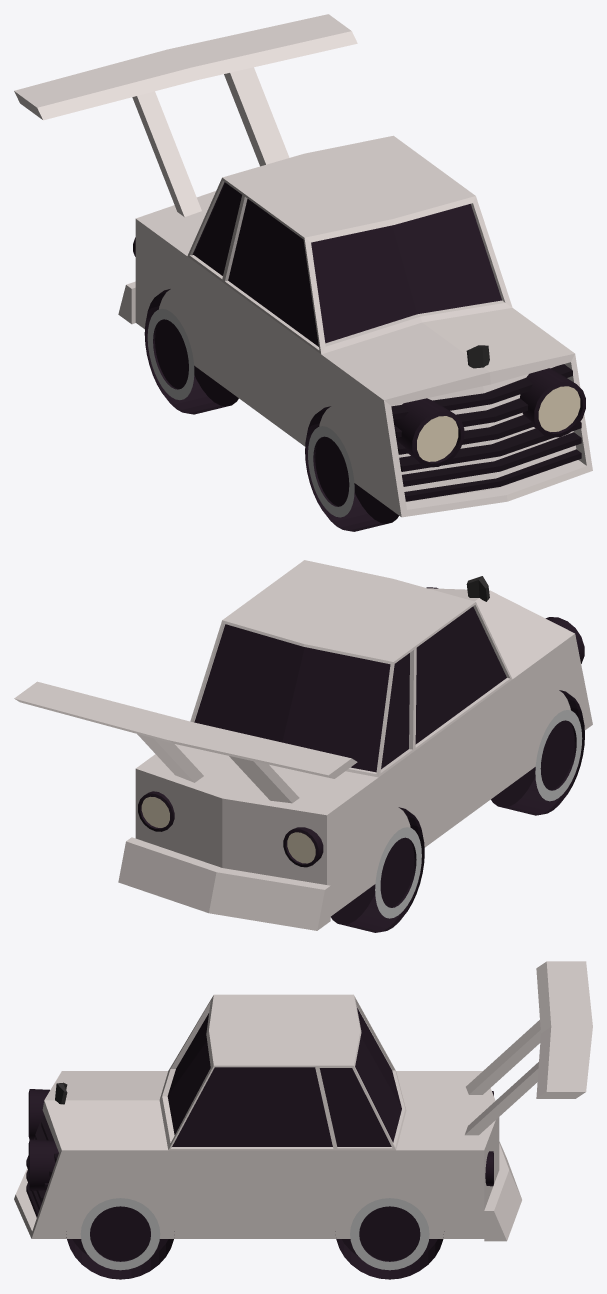
File: car.glb
3 views of the same model, one above another, from view 1: azimuth 30°, elevation 25°; view 2: azimuth 150°, elevation 25°; view 3: azimuth 270°, elevation 25° (orthographic). The views are drawn at different scales.
Parts seen in each view (by area): view 1: CarBody, FrontWheelLeft, BackWheelLeft; view 2: CarBody, FrontWheelLeft, BackWheelLeft; view 3: CarBody, BackWheelRight, FrontRightWheel.
Boxes of the visible parts, box(x1,y1,x2,y2) form: CarBody: box(14, 14, 592, 517); FrontWheelLeft: box(305, 406, 398, 531); BackWheelLeft: box(144, 289, 238, 414); CarBody: box(14, 560, 592, 930); FrontWheelLeft: box(491, 690, 584, 815); BackWheelLeft: box(331, 807, 424, 932); CarBody: box(14, 961, 592, 1241); BackWheelRight: box(335, 1198, 444, 1279); FrontRightWheel: box(66, 1198, 174, 1279).
Size of the model in its own units: 6.32 by 4.79 by 11.85.
